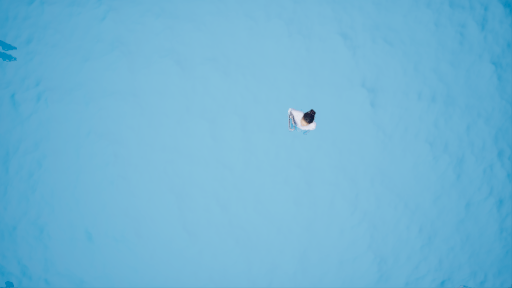person: (285, 108, 318, 140)
